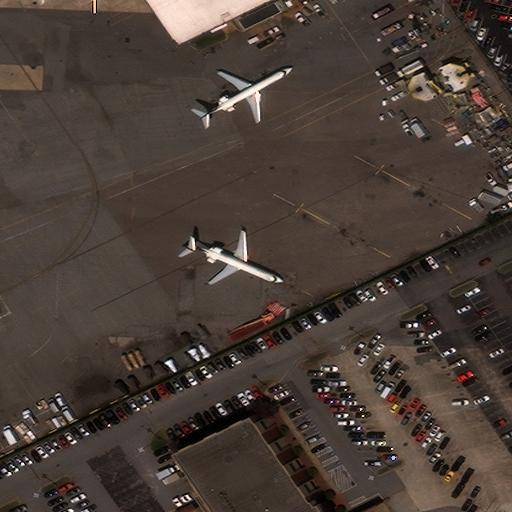Medium Civil Transport: (183, 231, 285, 285), (200, 67, 294, 121)
